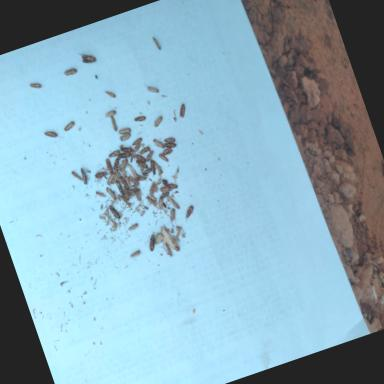pbw: (180, 204, 198, 224), (43, 125, 63, 143), (78, 49, 98, 67), (145, 230, 160, 252), (166, 193, 182, 212), (116, 158, 132, 174), (166, 208, 180, 226), (108, 204, 122, 222), (146, 194, 160, 212), (144, 82, 160, 97), (94, 168, 110, 182), (134, 150, 148, 166), (152, 158, 164, 176), (108, 171, 122, 186), (119, 174, 130, 192), (104, 158, 115, 176), (152, 137, 165, 152), (106, 187, 118, 203), (176, 104, 189, 118), (152, 232, 166, 245), (79, 168, 89, 186), (71, 169, 83, 184), (120, 193, 131, 209), (152, 115, 165, 128), (128, 174, 140, 188), (164, 140, 178, 152), (165, 180, 179, 192), (136, 158, 148, 172), (119, 144, 134, 155), (152, 36, 162, 52), (116, 150, 132, 160), (129, 166, 139, 182), (158, 152, 170, 165), (138, 144, 152, 155), (111, 157, 122, 171), (156, 195, 166, 210), (122, 186, 132, 201), (110, 116, 119, 132), (30, 80, 42, 92), (104, 174, 116, 186), (105, 88, 117, 100), (144, 150, 156, 162), (96, 188, 108, 200), (131, 143, 144, 154), (63, 121, 76, 132), (107, 150, 121, 160), (136, 172, 148, 183), (134, 114, 147, 124), (159, 184, 172, 194), (104, 109, 117, 119), (119, 132, 132, 142), (149, 162, 158, 176), (116, 182, 125, 196), (64, 68, 78, 77), (118, 127, 132, 136), (132, 138, 144, 148), (130, 249, 142, 259), (127, 222, 139, 232), (163, 136, 176, 145), (124, 176, 132, 190), (127, 152, 136, 164), (161, 148, 174, 156), (140, 168, 152, 176), (161, 192, 171, 198)
